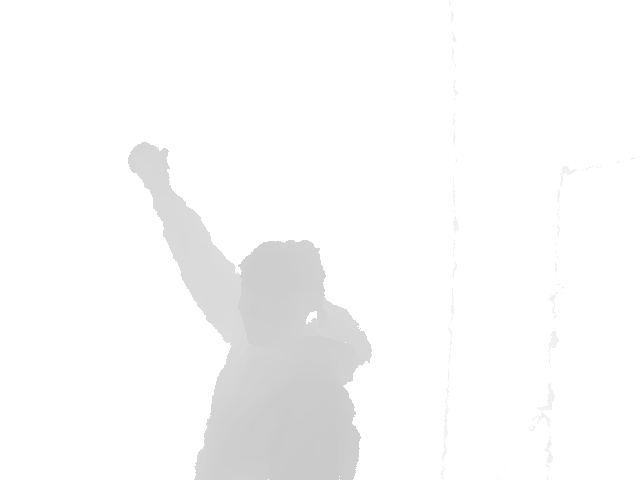hand: (127, 140, 173, 186)
head: (236, 239, 326, 348)
person: (127, 140, 374, 480)
